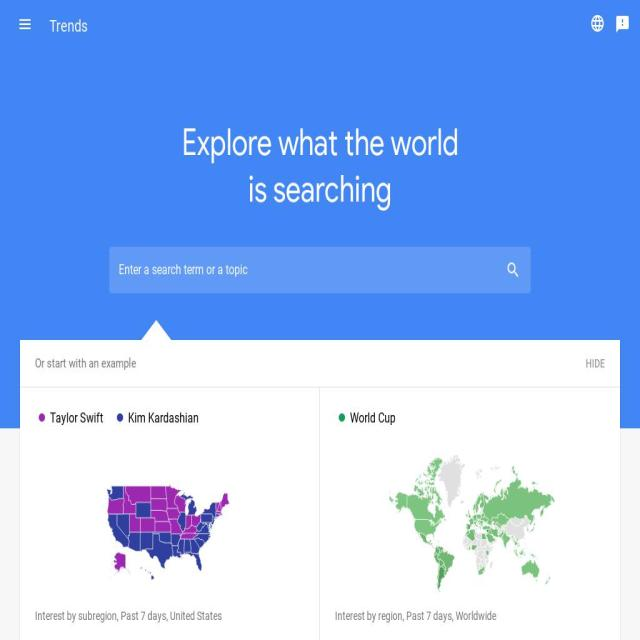button: (20, 387, 320, 640), (320, 387, 620, 640), (256, 294, 384, 428), (49, 6, 88, 46), (10, 4, 40, 44), (610, 6, 635, 41), (585, 7, 610, 40), (586, 357, 605, 370)
field: (110, 253, 530, 287)
heading: (49, 18, 88, 34)
image: (386, 454, 554, 594), (99, 461, 240, 601), (615, 13, 630, 34), (18, 14, 32, 35)
text: (152, 120, 488, 247), (0, 0, 640, 53), (34, 607, 304, 640), (335, 607, 605, 640), (256, 353, 369, 369), (125, 408, 198, 428), (35, 357, 136, 370), (48, 408, 103, 428), (348, 408, 396, 428), (368, 351, 384, 371), (590, 14, 605, 34), (506, 260, 520, 280), (39, 413, 45, 422), (117, 413, 123, 422), (339, 413, 345, 422)
